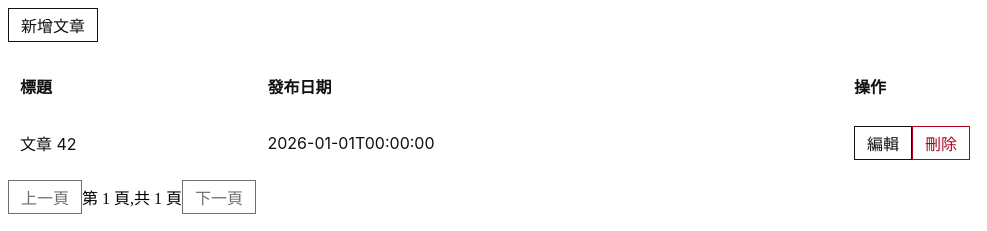
it: ArticlesList › 刪除確認互動(SDLCAIP1-14) › SDLCAIP1-14 AC1: 確認刪除且 API 回 204 時,呼叫 DELETE /articles/{id} 並就地移除該文章
Check: the text "文章 42" is shown, box top-left (8, 118), bottom-right (256, 168)
Click the button with test id "delete-article-42" at (941, 143), box top-left (912, 126), bottom-right (970, 160)
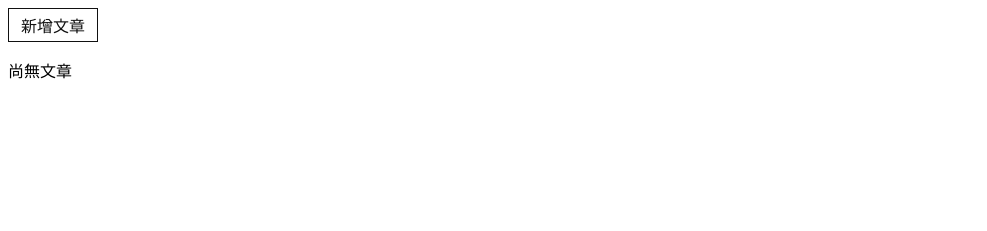
Check: the text "尚無文章" is shown, box top-left (8, 63), bottom-right (72, 80)
